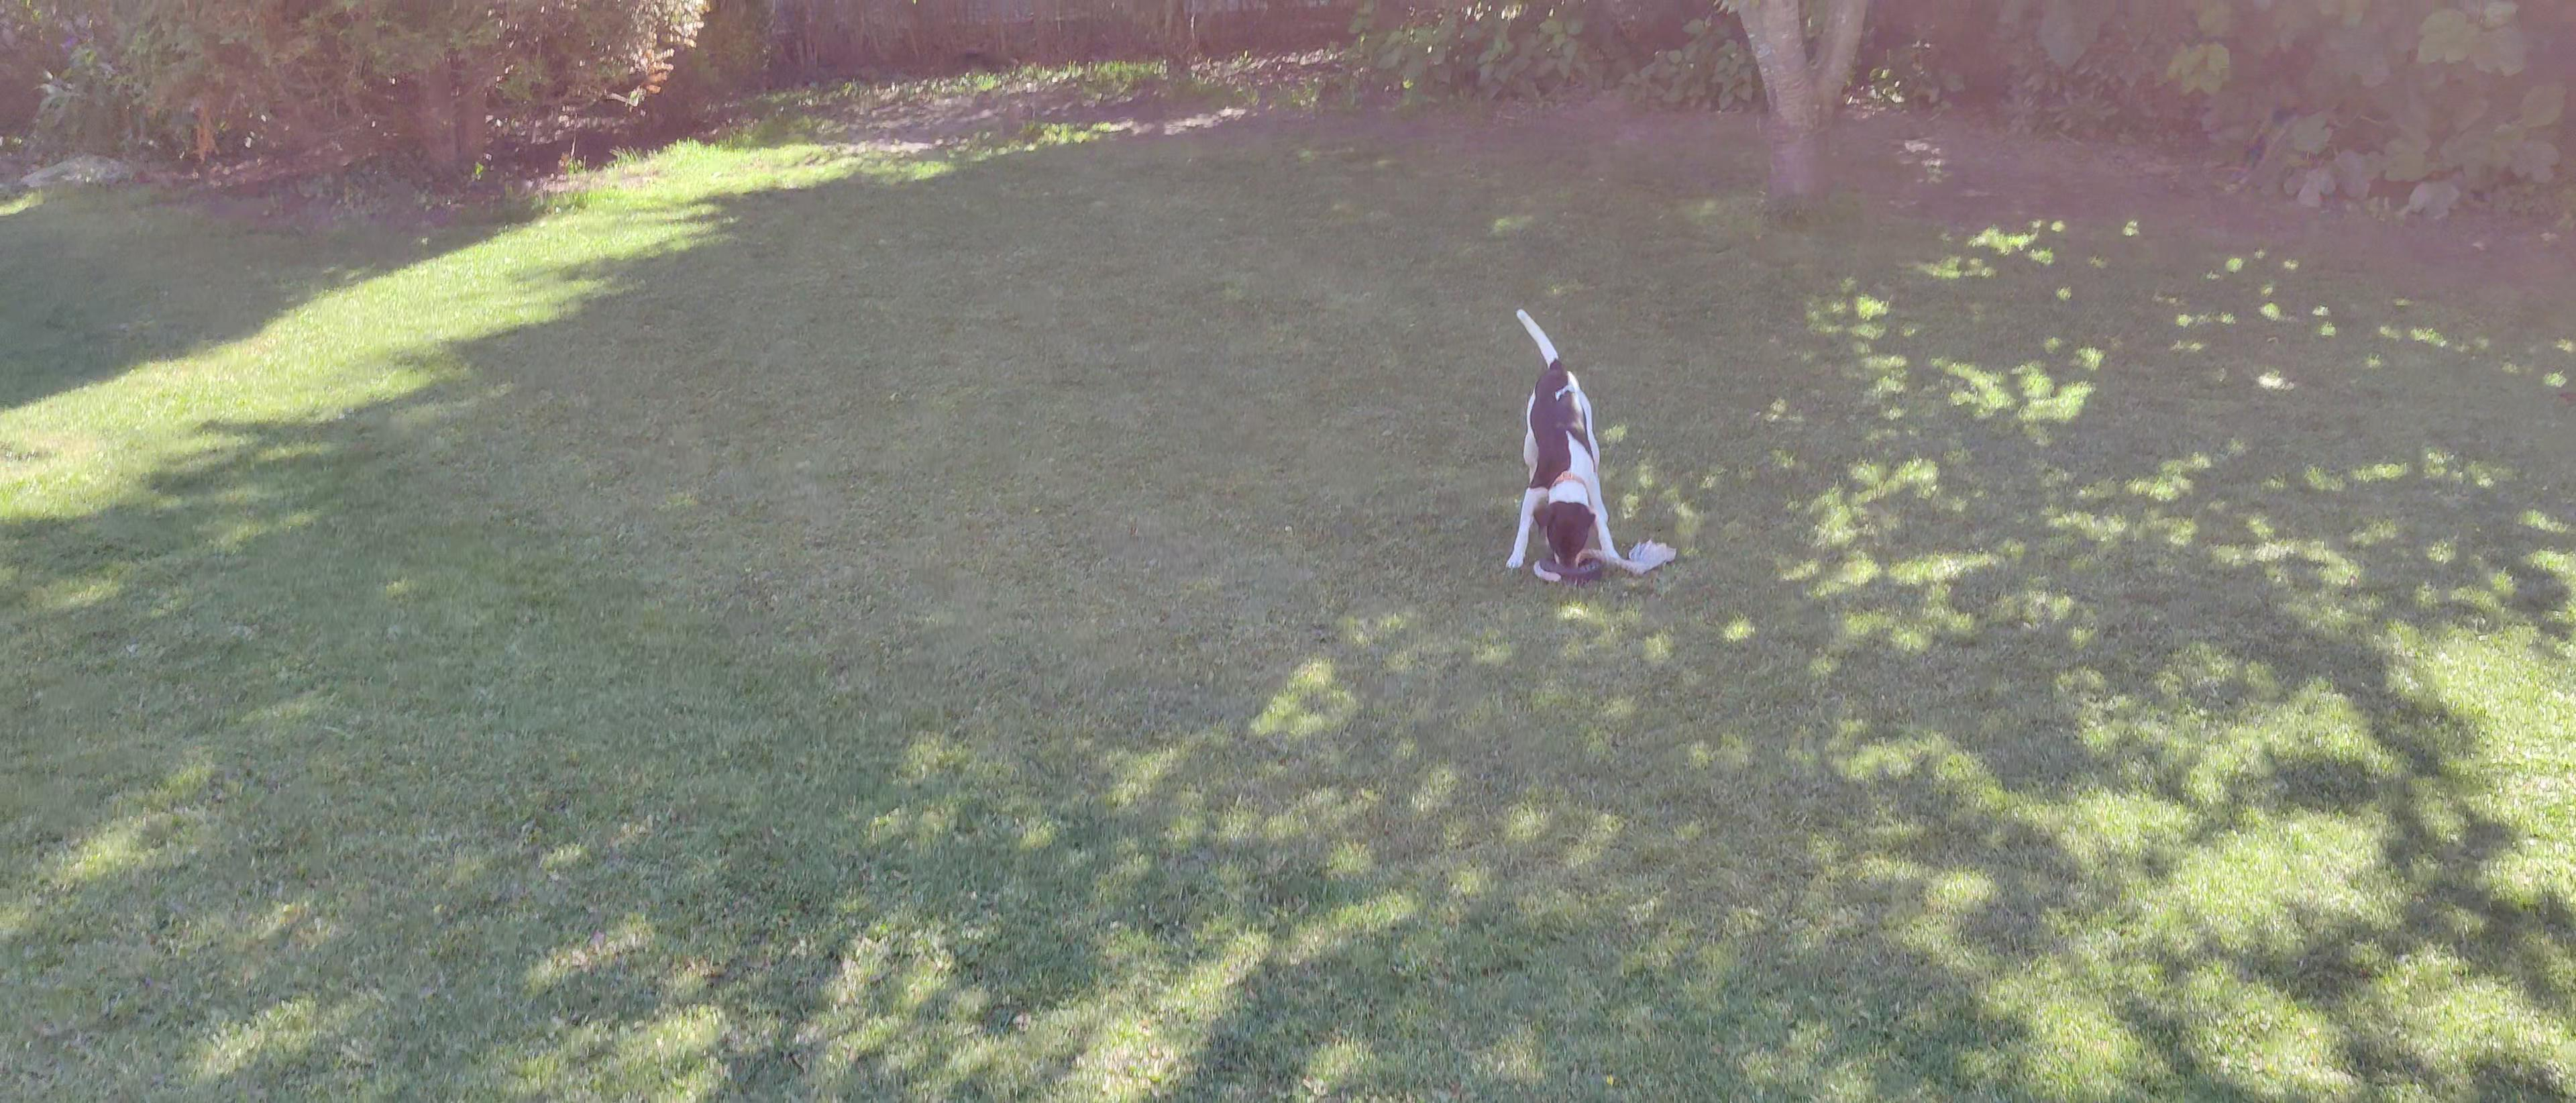Dog: (1479, 301, 1635, 577)
